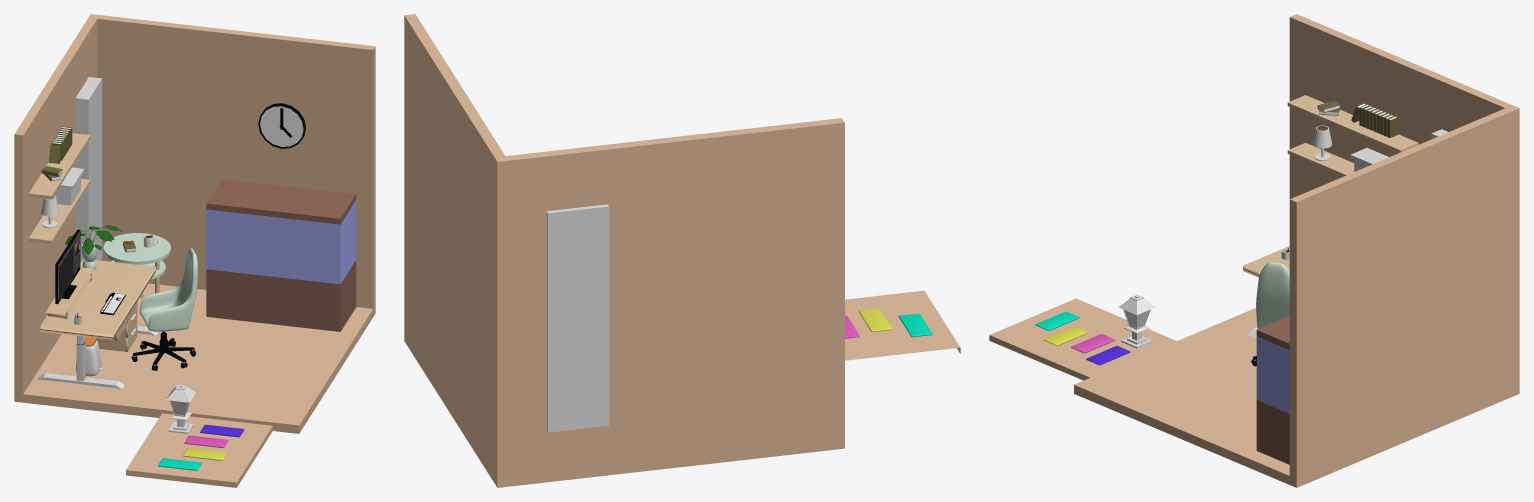
The picture shows the model from 3 angles, left to right: view 1: azimuth 30°, elevation 25°; view 2: azimuth 150°, elevation 25°; view 3: azimuth 270°, elevation 25°; orthographic projection. The views are drawn at different scales.
Visible parts, largest first — view 1: Wall, Base, Glas, FloorNew, TableTop, Cutout.001, Chair, Clock, PlateUp, Shelf.001, Shelf, Lamp (+13 smaller); view 2: Wall, Cutout.001, FloorNew; view 3: Wall, FloorNew, Base, Glas, Chair, Shelf.001, Lamp, Shelf, Book.
Boxes of the visible parts, bbox=[...] form: Wall: bbox=[14, 14, 375, 433]; Base: bbox=[206, 179, 356, 331]; Glas: bbox=[206, 200, 356, 284]; FloorNew: bbox=[126, 413, 272, 487]; TableTop: bbox=[40, 259, 155, 339]; Cutout.001: bbox=[75, 77, 102, 262]; Chair: bbox=[139, 248, 197, 331]; Clock: bbox=[258, 103, 305, 148]; PlateUp: bbox=[103, 233, 170, 264]; Shelf.001: bbox=[29, 133, 90, 199]; Shelf: bbox=[29, 178, 90, 243]; Lamp: bbox=[166, 385, 195, 433]; Wall: bbox=[404, 14, 844, 487]; Cutout.001: bbox=[546, 204, 609, 432]; FloorNew: bbox=[845, 290, 960, 360]; Wall: bbox=[1074, 14, 1519, 487]; FloorNew: bbox=[989, 298, 1176, 380]; Base: bbox=[1256, 316, 1289, 464]; Glas: bbox=[1256, 336, 1289, 413]; Chair: bbox=[1256, 262, 1289, 328]; Shelf.001: bbox=[1287, 95, 1418, 152]; Lamp: bbox=[1118, 294, 1155, 348]; Shelf: bbox=[1287, 142, 1354, 176]; Book: bbox=[1359, 104, 1398, 137].
Bounding box in the file's own units: 30.43 × 21.53 × 36.2.
30 materials, 1 textured.
